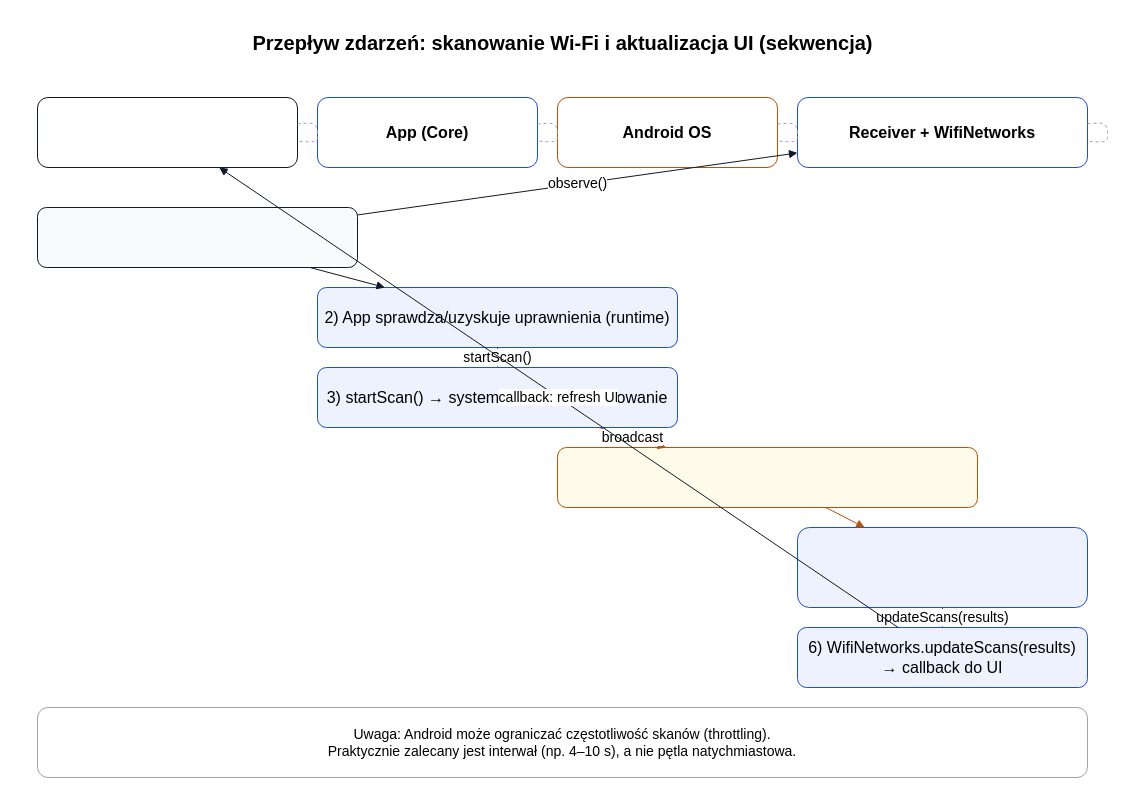
Image size: 1126x795. Some labels were removed from this diagram. The shapes that lost their labels are listed below. From the top down, each one's centre as x and y in pixels, then its label:
At (167,132): "UI (WiFiActivity / WiFiSpectreActivity)".
At (197,237): "1) UI startuje i rejestruje obserwację".
At (767,477): "4) Android OS wysyła SCAN_RESULTS_AVAILABLE_ACTION".
At (942,567): "5) Receiver: odczyt scanResults + weryfikacja EXTRA_RESULTS_UPDATED".
